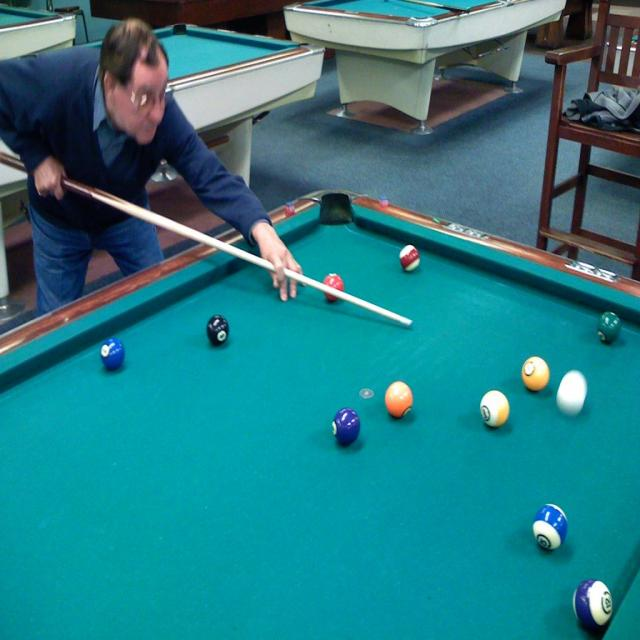Ball: (575, 580, 612, 640), (535, 506, 564, 552), (560, 374, 590, 415), (331, 407, 358, 443), (386, 383, 412, 420), (100, 338, 126, 372), (520, 357, 546, 391), (482, 395, 507, 428), (597, 312, 619, 348), (208, 318, 230, 347), (322, 275, 344, 302), (400, 248, 419, 274)
Billiard table: (0, 190, 639, 639), (0, 20, 326, 328), (283, 0, 568, 134), (0, 2, 78, 49)
